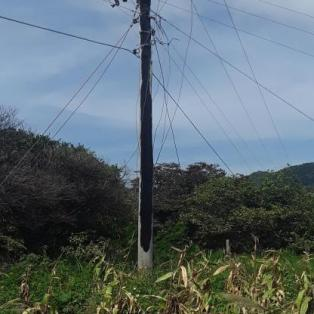Poste: (135, 0, 156, 268)
